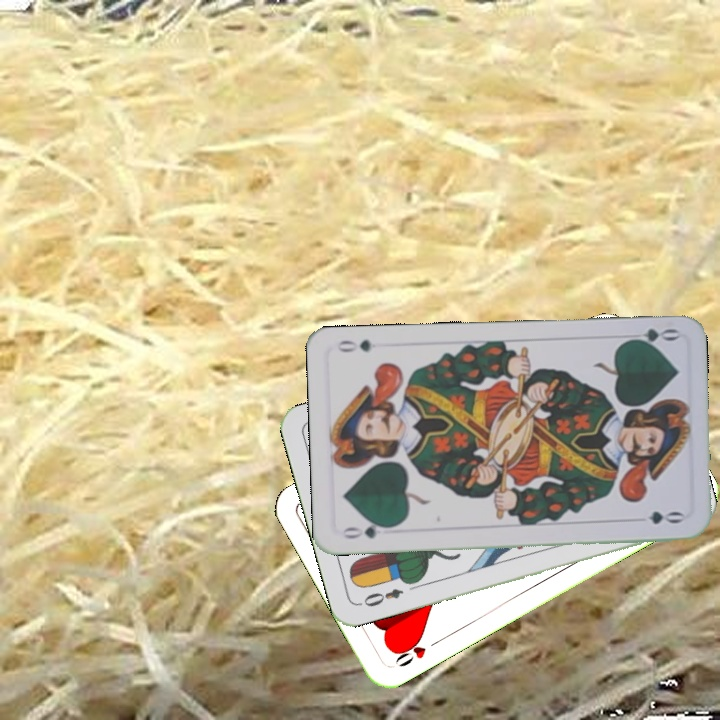EO: (359, 584, 406, 610)
GO: (621, 324, 680, 349), (337, 518, 396, 541)
HO: (390, 633, 443, 670)
